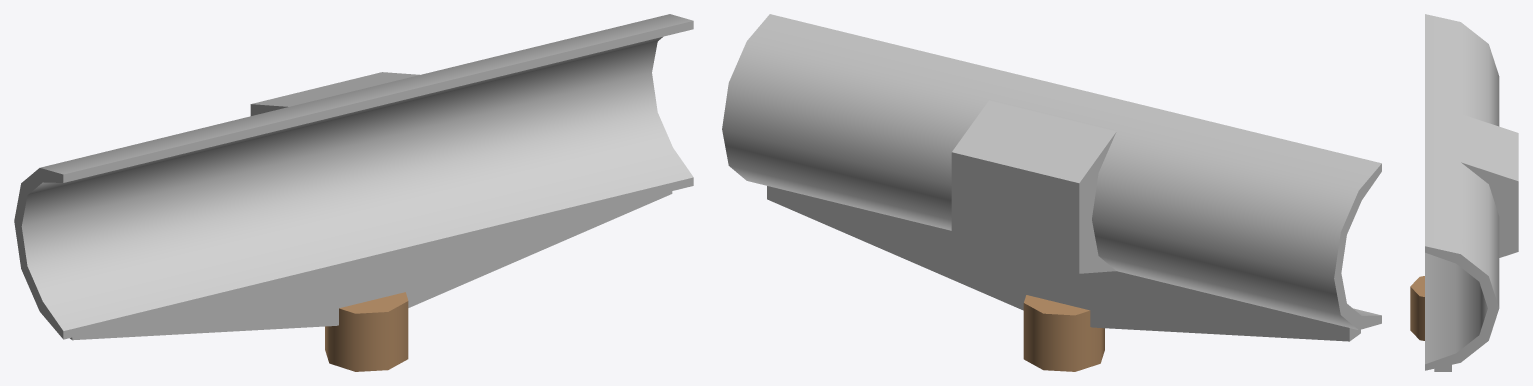
Rendered from Arizona_B_SKSG_RADAR_Antenna_SG.obj.
The picture shows the model from 3 angles, left to right: view 1: azimuth 30°, elevation 25°; view 2: azimuth 150°, elevation 25°; view 3: azimuth 270°, elevation 25°; orthographic projection. The views are drawn at different scales.
Parts seen in each view (by area): view 1: Arizona_B_SKSG_RADAR_Antenna_SG_steel_3, Arizona_B_SKSG_RADAR_Antenna_SG_steel_4, Arizona_B_SKSG_RADAR_Antenna_SG_details_3; view 2: Arizona_B_SKSG_RADAR_Antenna_SG_steel_4, Arizona_B_SKSG_RADAR_Antenna_SG_details_3; view 3: Arizona_B_SKSG_RADAR_Antenna_SG_steel_4, Arizona_B_SKSG_RADAR_Antenna_SG_steel_3, Arizona_B_SKSG_RADAR_Antenna_SG_details_3.
Boxes of the visible parts, x1,y1,x2,y2 form: Arizona_B_SKSG_RADAR_Antenna_SG_steel_3: (21, 37, 693, 330); Arizona_B_SKSG_RADAR_Antenna_SG_steel_4: (14, 14, 693, 340); Arizona_B_SKSG_RADAR_Antenna_SG_details_3: (325, 292, 408, 371); Arizona_B_SKSG_RADAR_Antenna_SG_steel_4: (722, 14, 1381, 341); Arizona_B_SKSG_RADAR_Antenna_SG_details_3: (1023, 295, 1104, 371); Arizona_B_SKSG_RADAR_Antenna_SG_steel_4: (1425, 14, 1518, 371); Arizona_B_SKSG_RADAR_Antenna_SG_steel_3: (1425, 252, 1487, 364); Arizona_B_SKSG_RADAR_Antenna_SG_details_3: (1410, 276, 1424, 340).
Bounding box in the file's own units: 3.31 × 1.33 × 0.654.
